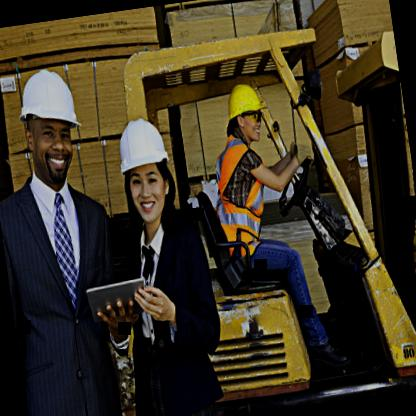helmet: (4, 48, 90, 190), (102, 110, 180, 232), (216, 75, 272, 152)
